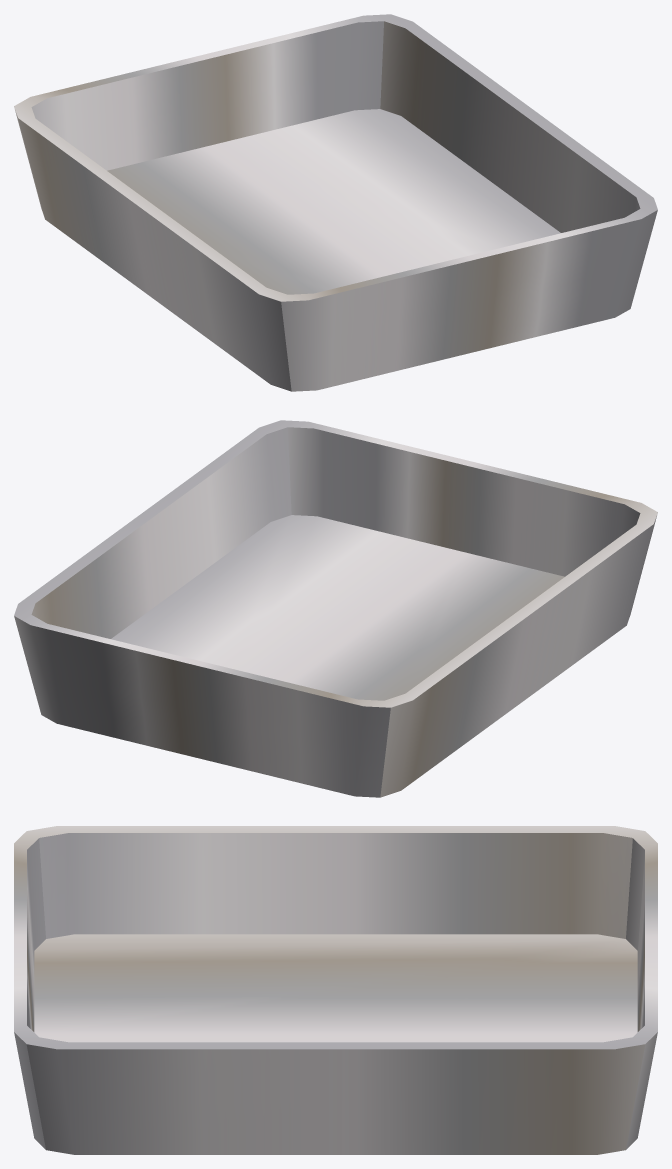
Rendered from Container_Vegetable.fbx.
3 views of the same model, one above another, from view 1: azimuth 30°, elevation 25°; view 2: azimuth 150°, elevation 25°; view 3: azimuth 270°, elevation 25° (orthographic). The views are drawn at different scales.
Visible parts, largest first — view 1: Container_Vegetable; view 2: Container_Vegetable; view 3: Container_Vegetable.
Part boxes in pixels (x1,y1,x2,y2): Container_Vegetable: [14, 14, 657, 391]; Container_Vegetable: [14, 420, 657, 797]; Container_Vegetable: [14, 826, 657, 1154].
Bounding box in the file's own units: 227 × 55.27 × 276.
